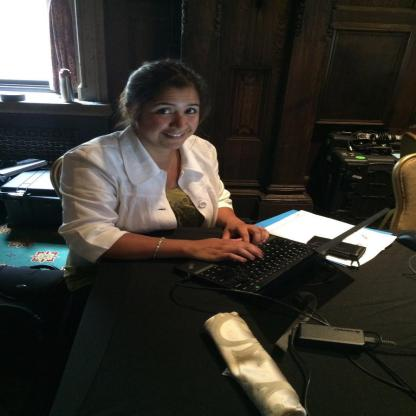board: (176, 206, 390, 294)
